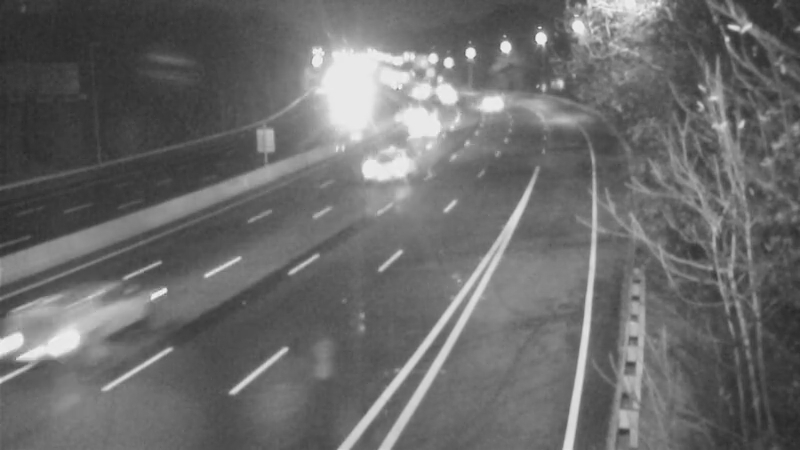vehicle: (1, 287, 99, 397), (355, 129, 435, 209), (391, 87, 441, 137), (399, 100, 449, 150)
